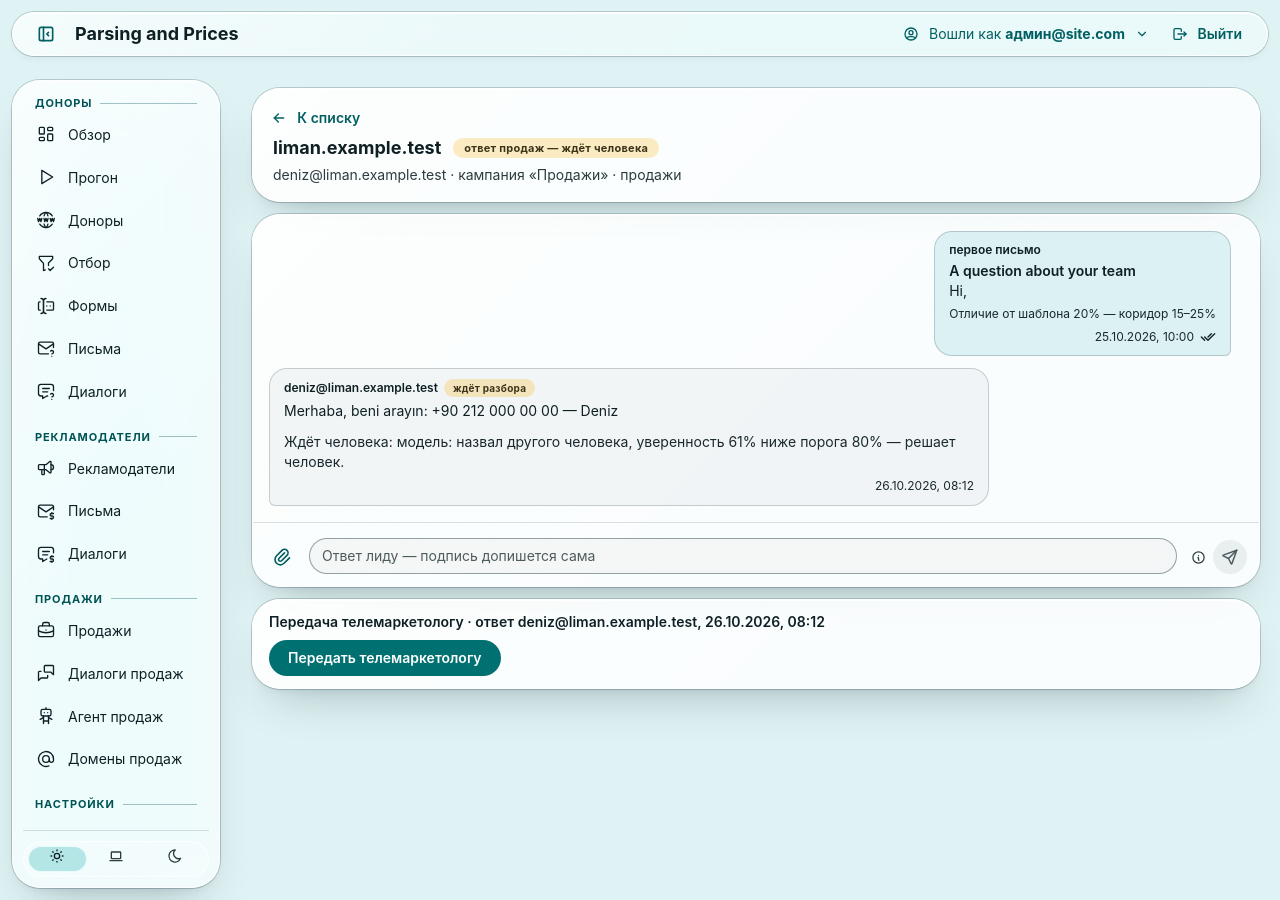
Test case: «Передать телемаркетологу» у ответа продаж › у ответа, который ждёт человека, — кнопка; после подтверждения — исход и строка состояния
Expected: the heading "liman.example.test" is shown, [273,135,441,161]
Click the button "Передать телемаркетологу" at [385, 658], box [269,640,501,676]
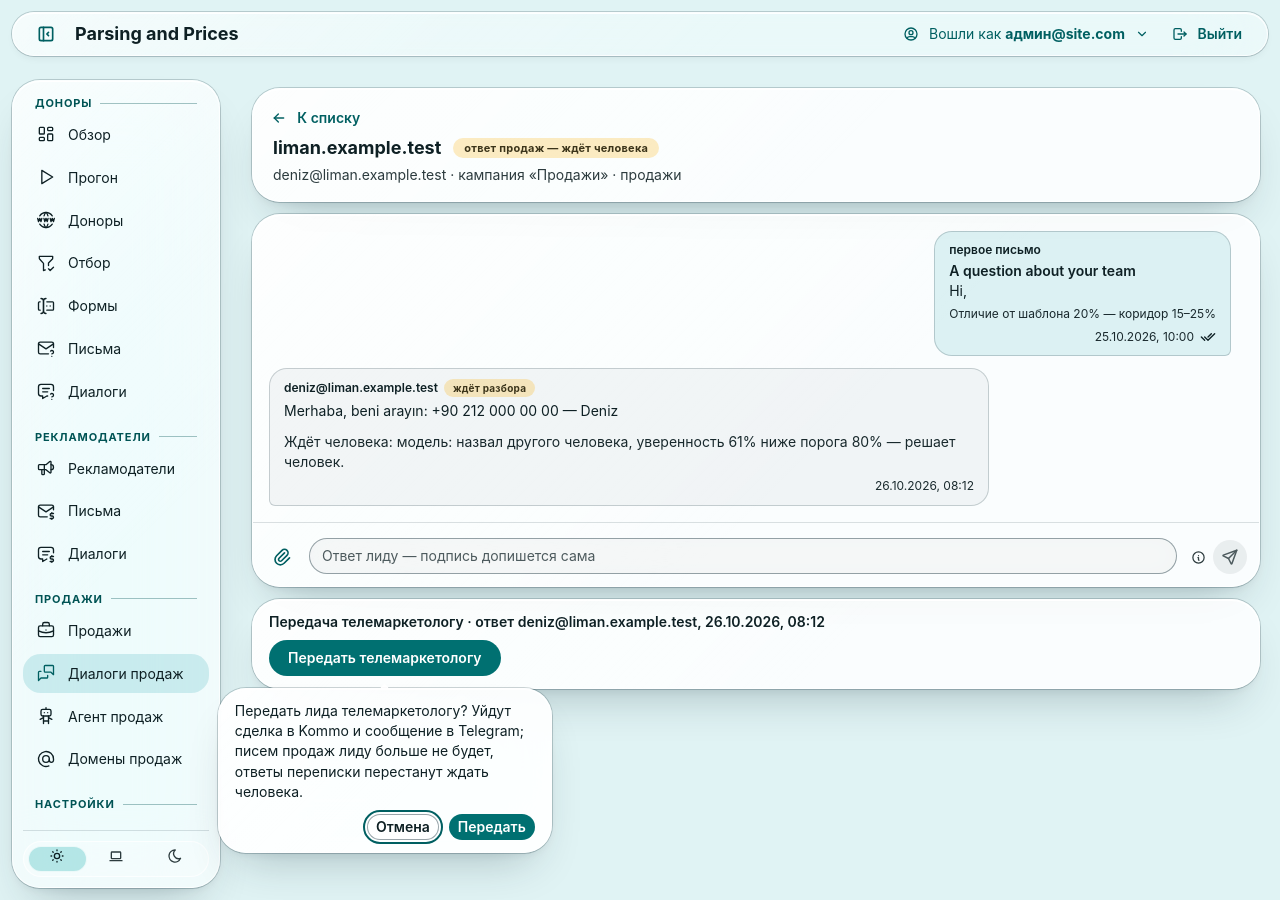
Expected: the dialog shows "Уйдут сделка в Kommo и сообщение в Telegram", [235,702,524,800]
Click the button "Передать" at [492, 827], box [449,814,535,840]
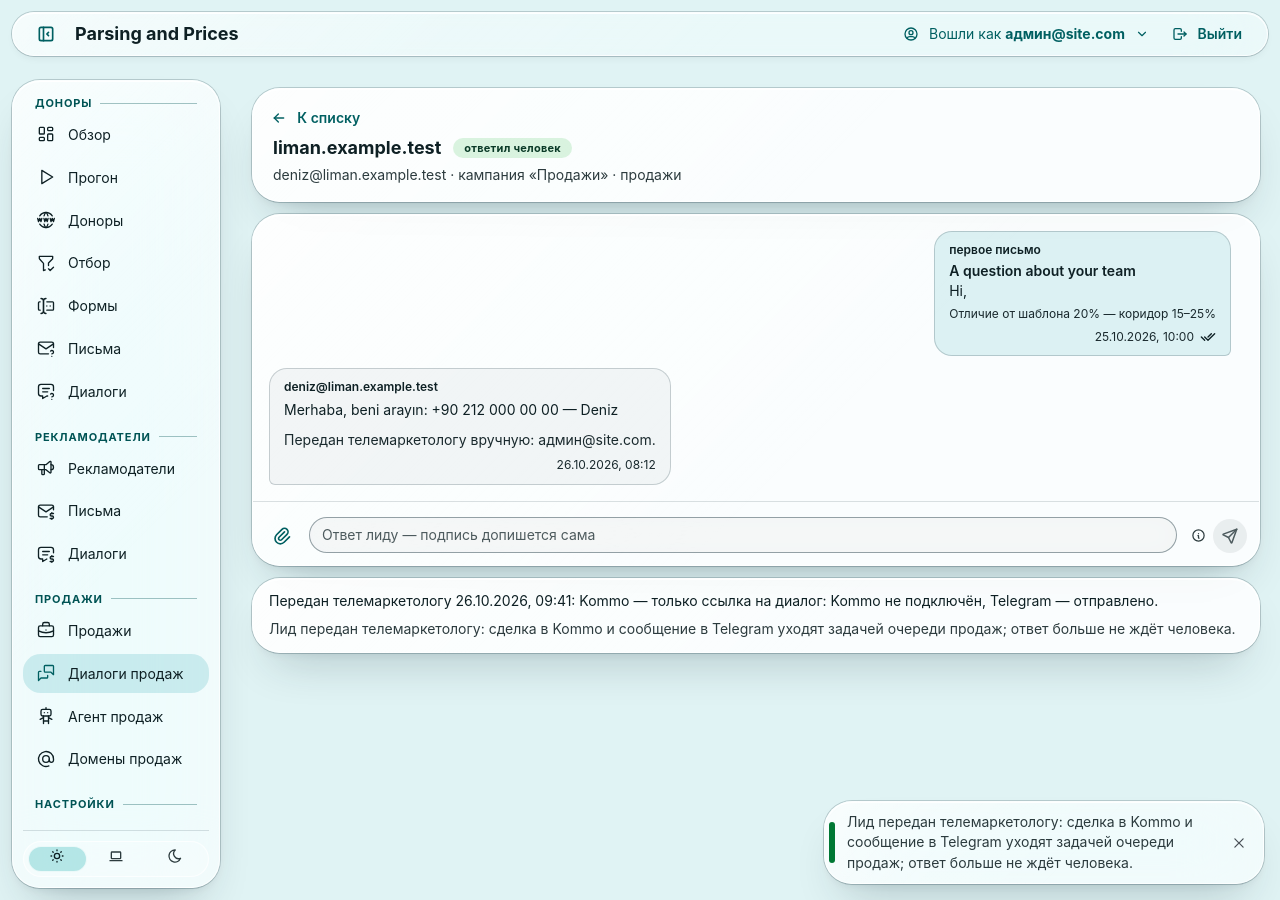
Expected: the button "Передать телемаркетологу" is gone
